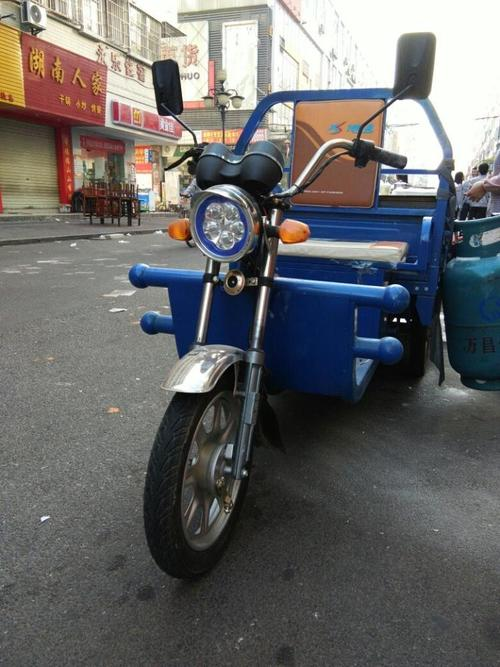tricycle: (92, 44, 456, 579)
